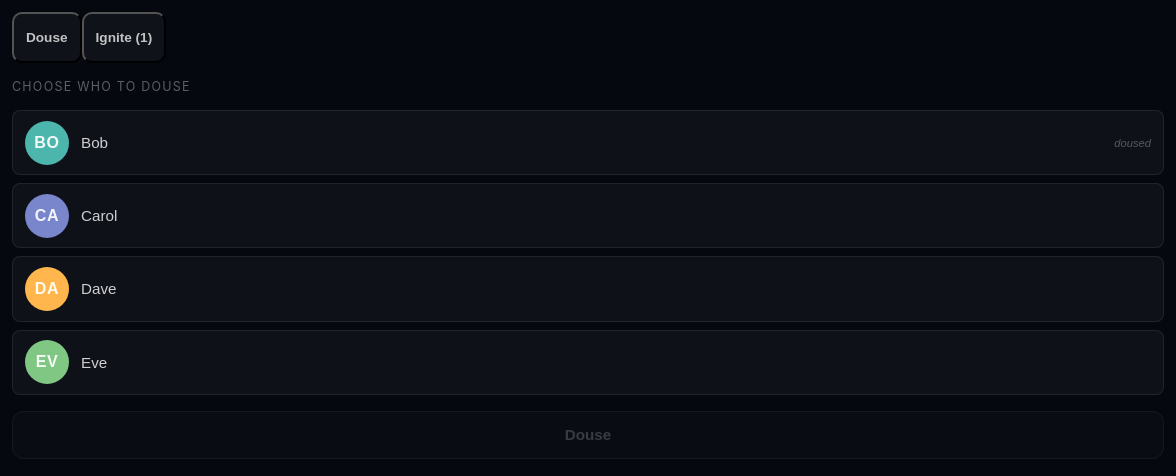
Scenario: ArsonistUI › switching to ignite mode hides picker and shows ignite header
The image size is (1176, 476).
Click the button "Ignite (1)" at (124, 38), box [82,12,166,63]
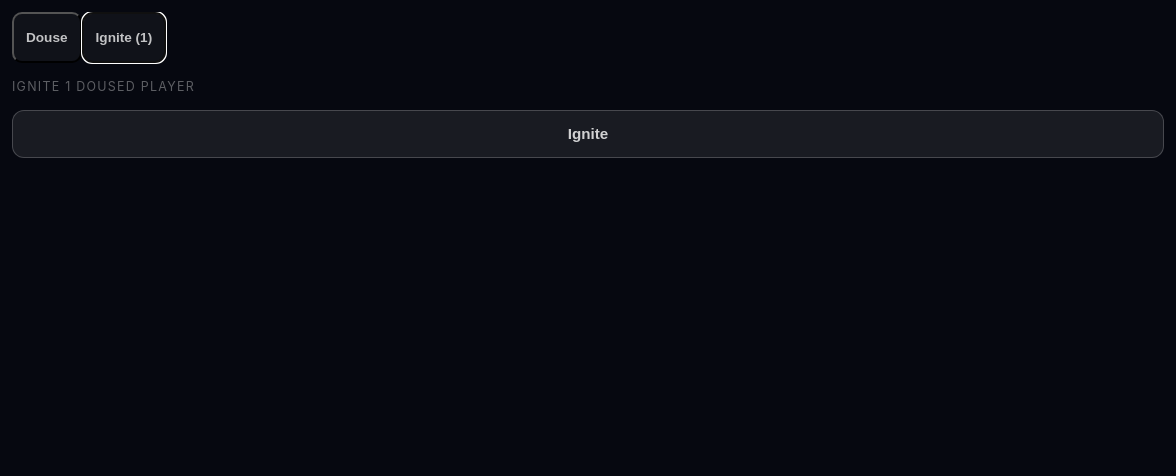
Now the text "Choose who to douse" is gone
Now the text "Ignite 1 doused player" is shown, box [12,79,195,94]
